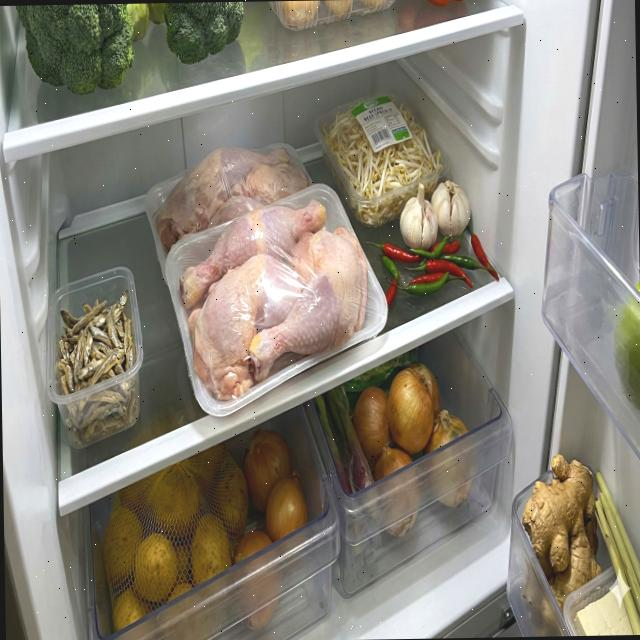anchovies: (58, 290, 140, 448)
bean_sprouts: (322, 101, 443, 228)
brocolli: (16, 3, 150, 95), (150, 1, 246, 65)
chicken: (178, 200, 370, 402), (154, 143, 308, 252)
chili: (362, 224, 500, 308)
garlic: (398, 178, 471, 250)
ginger: (520, 453, 604, 634)
onion: (352, 361, 478, 538), (230, 428, 309, 630)
potato: (100, 442, 251, 634)
tofu: (572, 582, 634, 635)
